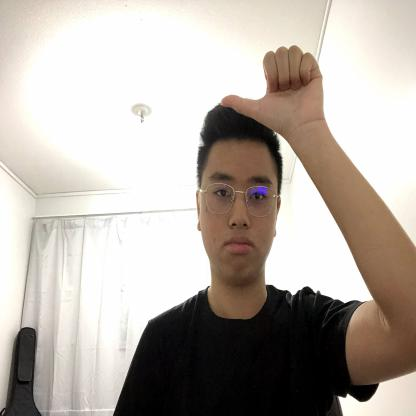right: (220, 46, 324, 148)
